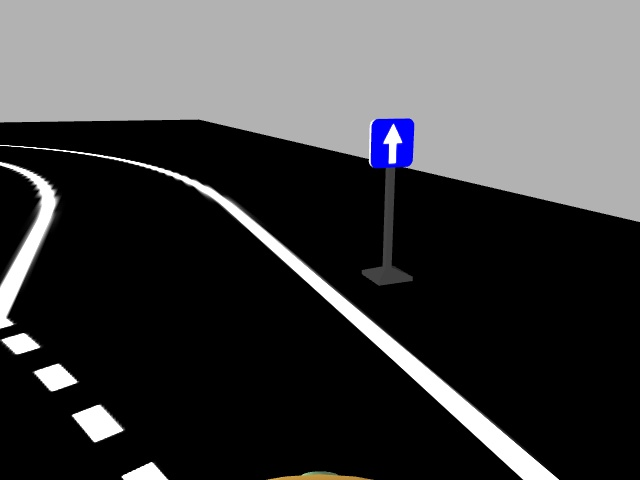OneWay: (368, 116, 414, 168)
